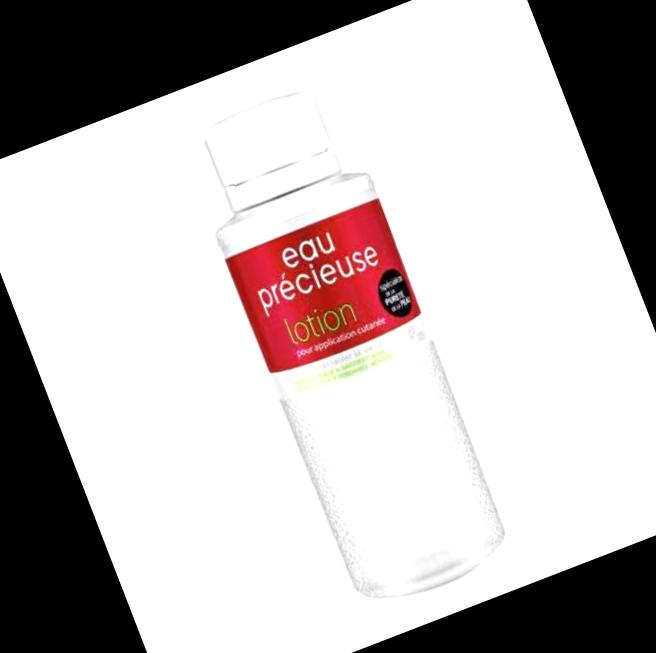cosmetic: (176, 77, 508, 595)
